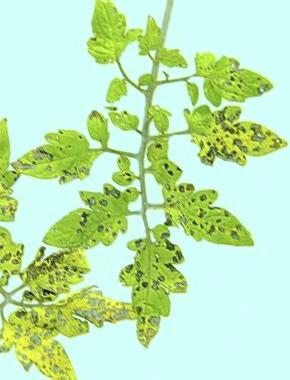Tomato Septoria leaf spot: (0, 277, 151, 380), (5, 110, 121, 205), (120, 221, 194, 365), (39, 176, 139, 272), (158, 178, 264, 249), (180, 104, 290, 170), (190, 45, 290, 110), (10, 250, 95, 314), (80, 0, 145, 79)
